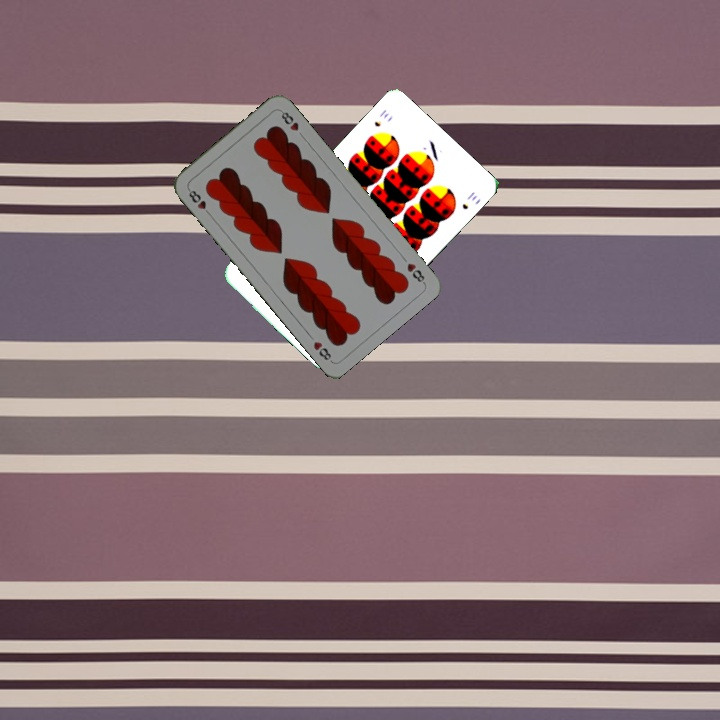H8: (184, 184, 214, 219), (403, 259, 428, 286)
S10: (370, 105, 392, 129)
